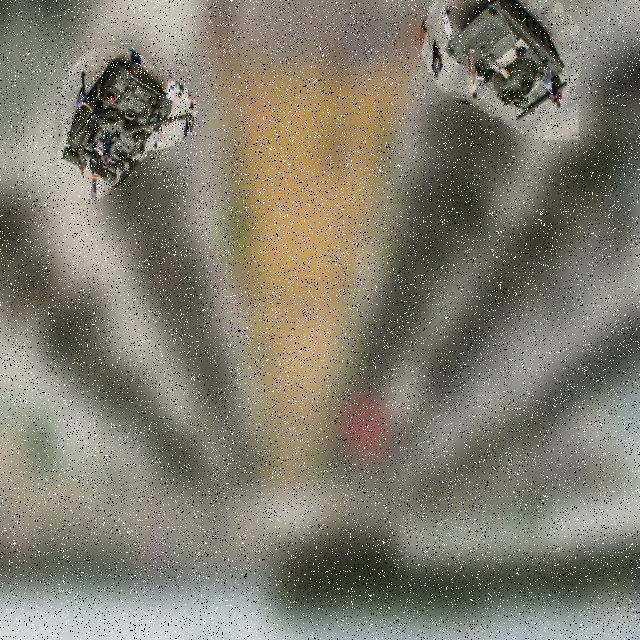MIL_MBT: (60, 58, 194, 187), (444, 3, 572, 120)
